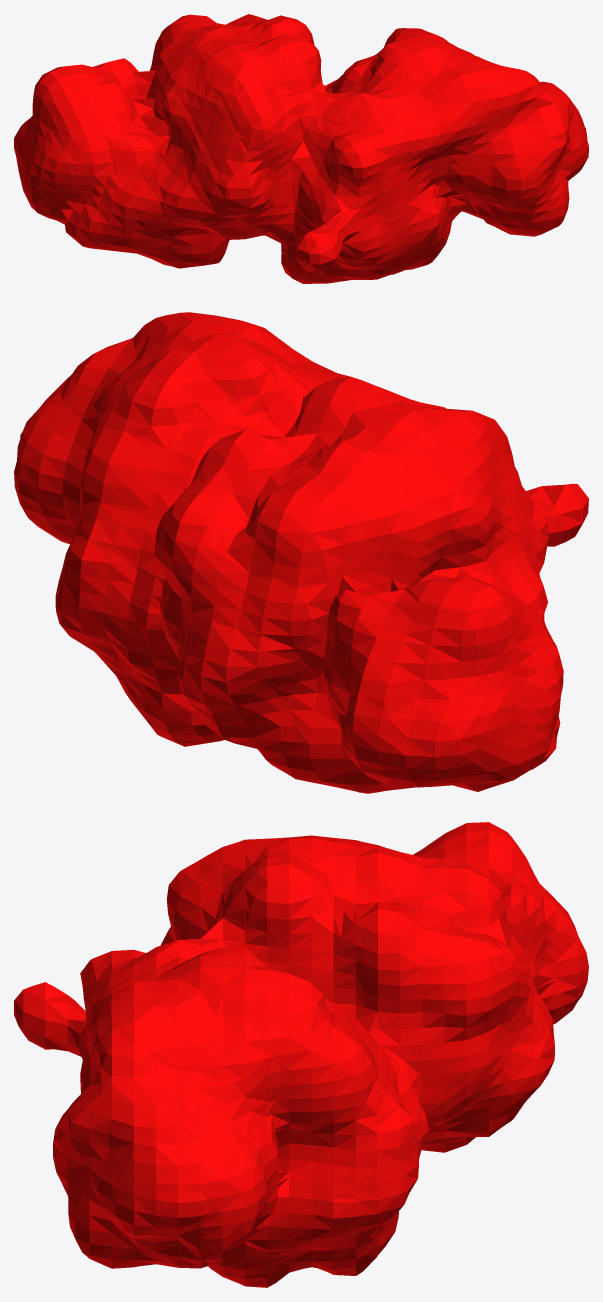
File: Procollagen_lysine__Lysyl_hydr_2_coarse.dae
The picture shows the model from 3 angles, top to bottom: view 1: azimuth 30°, elevation 25°; view 2: azimuth 150°, elevation 25°; view 3: azimuth 270°, elevation 25°; orthographic projection. The views are drawn at different scales.
Visible parts, largest first — view 1: Procollagen_lysine__Lysyl_hydr_2; view 2: Procollagen_lysine__Lysyl_hydr_2; view 3: Procollagen_lysine__Lysyl_hydr_2.
Boxes of the visible parts, x1,y1,x2,y2 form: Procollagen_lysine__Lysyl_hydr_2: (14,14,588,283); Procollagen_lysine__Lysyl_hydr_2: (14,312,588,793); Procollagen_lysine__Lysyl_hydr_2: (14,822,588,1287).
Size of the model in its own units: 116 by 61.36 by 91.36.
